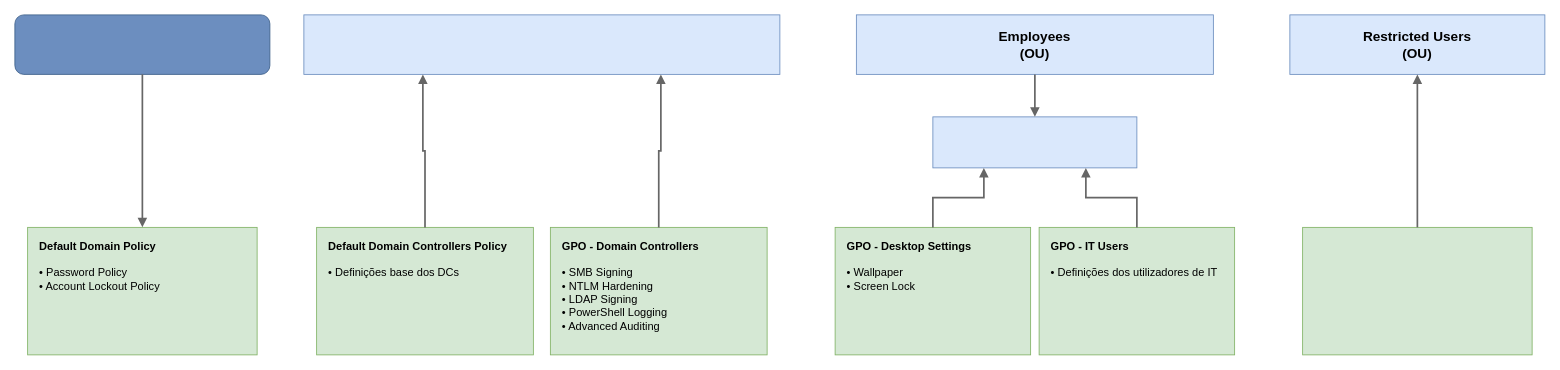
Some shapes in this 1560 by 370 pixel diagram are drawn without their labels. Each missing label, with the centre of its shape:
"Domain Controllers (OU)" goes at pixel 541 44.
"GPO - CMD Restriction • Bloqueio da linha de comandos" goes at pixel 1417 291.
"home.lab" goes at pixel 142 44.
"IT (OU)" goes at pixel 1034 142.
